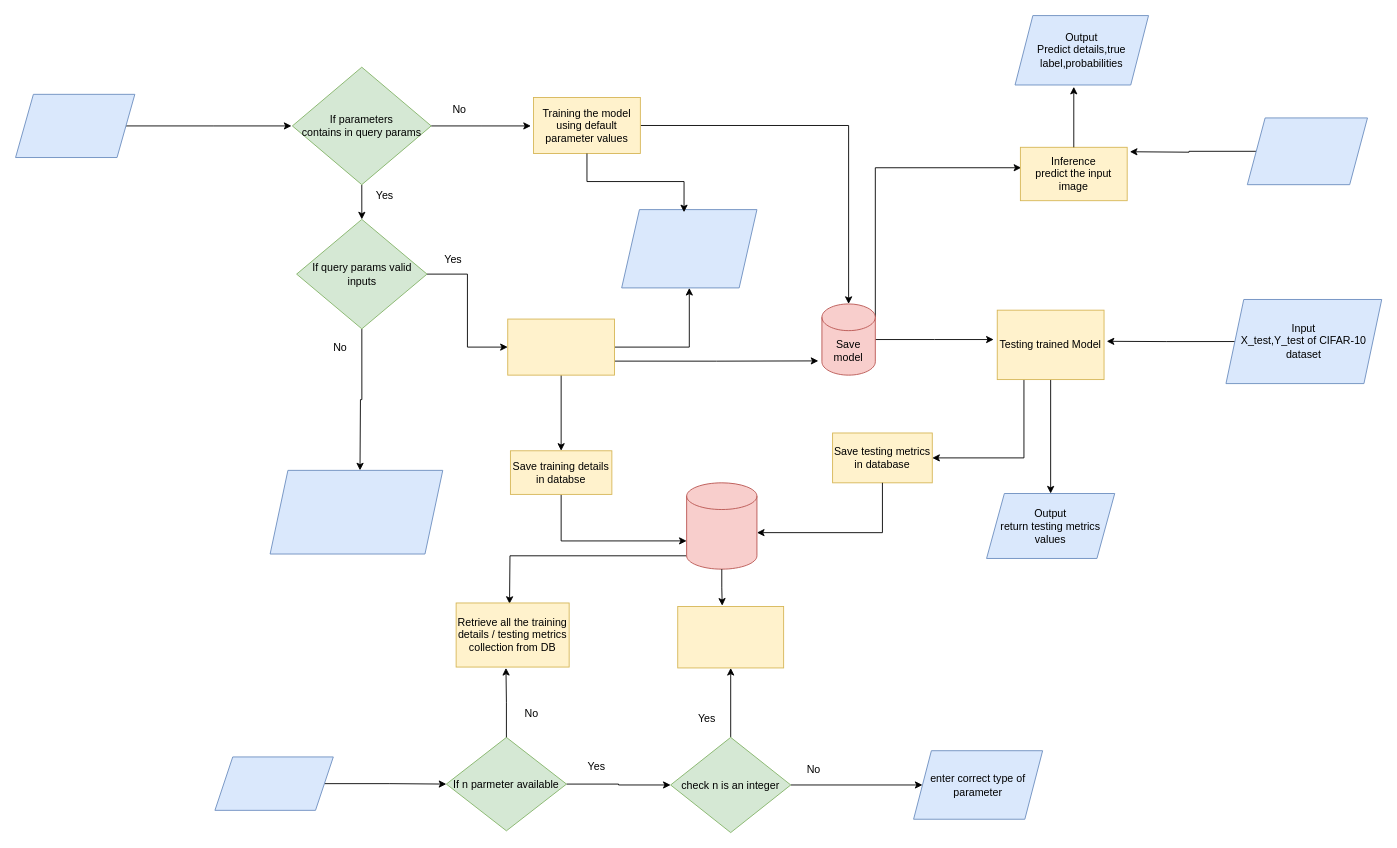
The diagram is 1397 pixels wide and 848 high, and some of its shapes have lost their labels. The shapes that lost their labels are listed below. From the top down, each one's box as (x1, y1, x2, y2) in pixels, then its label:
(15, 93, 135, 158): Input training paramters
(1246, 117, 1367, 185): Input random image from CIFAR-10 dataset
(621, 209, 757, 288): Output return success message and metrics values
(507, 318, 615, 375): Training the model using valid parameter values
(269, 469, 443, 554): Output for enter correct type for parameters
(686, 482, 757, 569): Database
(677, 606, 784, 668): Retrieve the n number of training details / testing metrics collection from DB
(214, 756, 333, 810): Input n = integer
